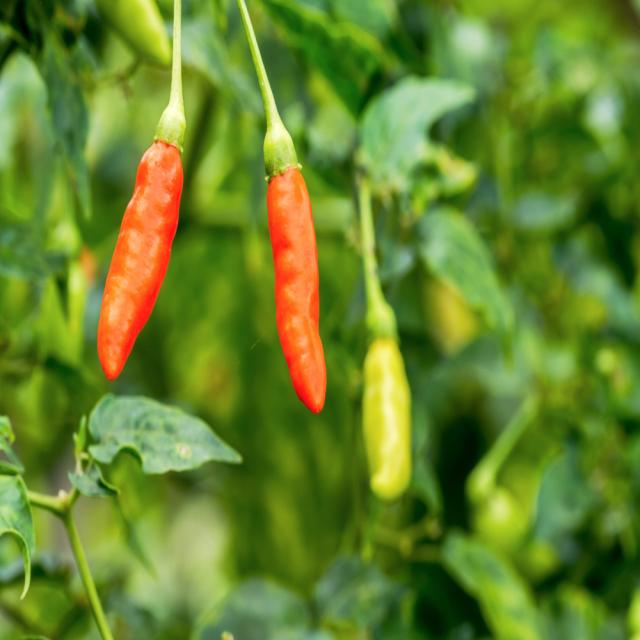Ripe: (98, 141, 182, 379), (268, 167, 326, 412)
